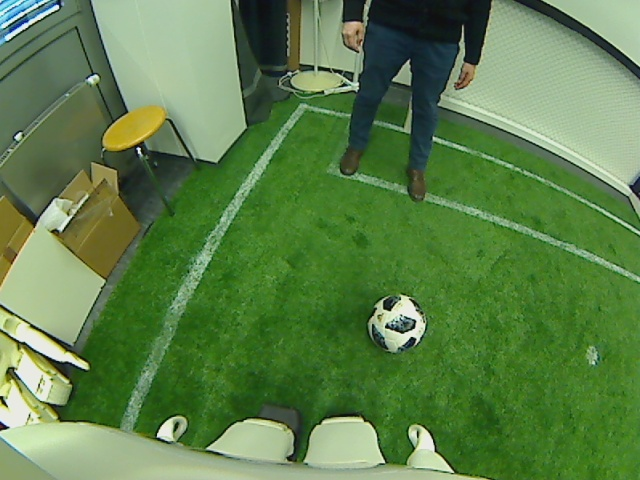ball: (365, 292, 429, 354)
